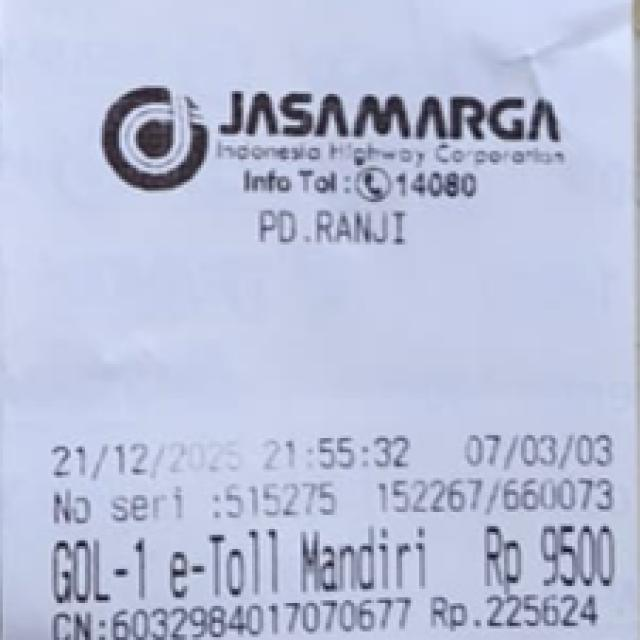date: (52, 434, 416, 476)
store: (201, 80, 570, 176)
total: (478, 521, 622, 592)
